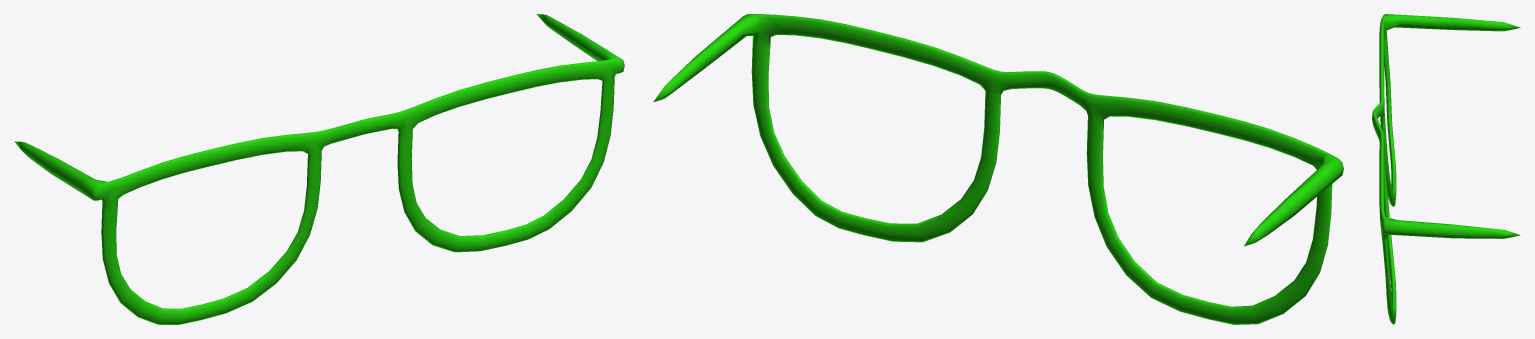
The picture shows the model from 3 angles, left to right: view 1: azimuth 30°, elevation 25°; view 2: azimuth 150°, elevation 25°; view 3: azimuth 270°, elevation 25°; orthographic projection. The views are drawn at different scales.
Visible parts, largest first — view 1: 1_0; view 2: 1_0; view 3: 1_0.
Boxes of the visible parts, x1,y1,x2,y2 form: 1_0: (14,14,624,324); 1_0: (653,14,1343,324); 1_0: (1372,14,1520,324).
Bounding box in the file's own units: 21.44 × 6.77 × 6.38.
